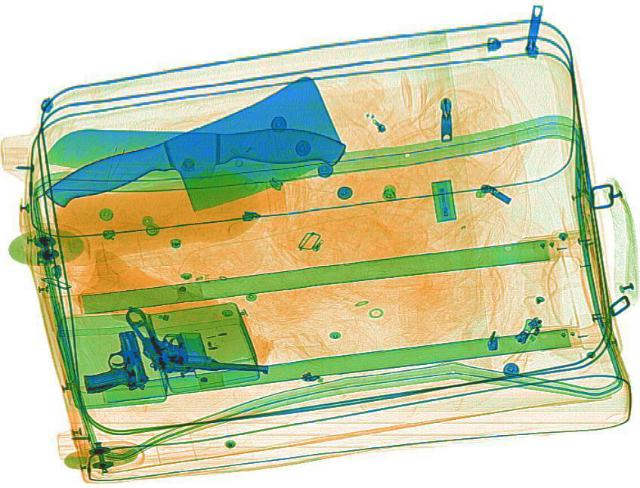Gun: (90, 304, 280, 403), (67, 327, 159, 396)
Knife: (37, 66, 373, 262)
